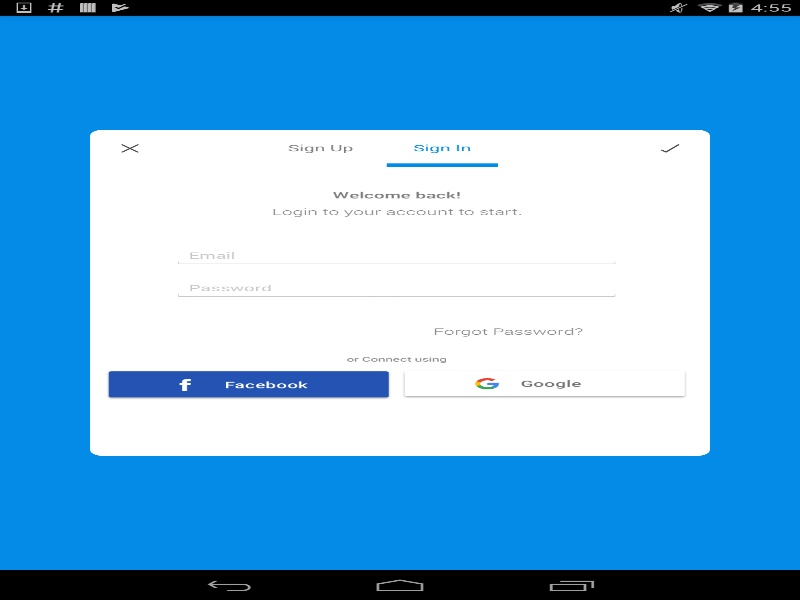Button: (106, 370, 391, 400), (90, 129, 170, 167), (630, 129, 710, 167)
Input: (172, 277, 620, 299), (172, 245, 620, 266)
